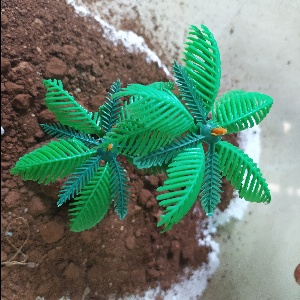plant: (22, 29, 276, 224)
